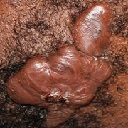Keloids: (11, 48, 116, 115), (74, 4, 112, 48)
